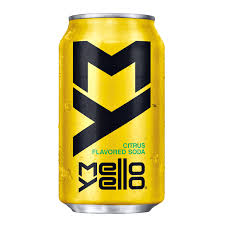can: (57, 10, 168, 216)
